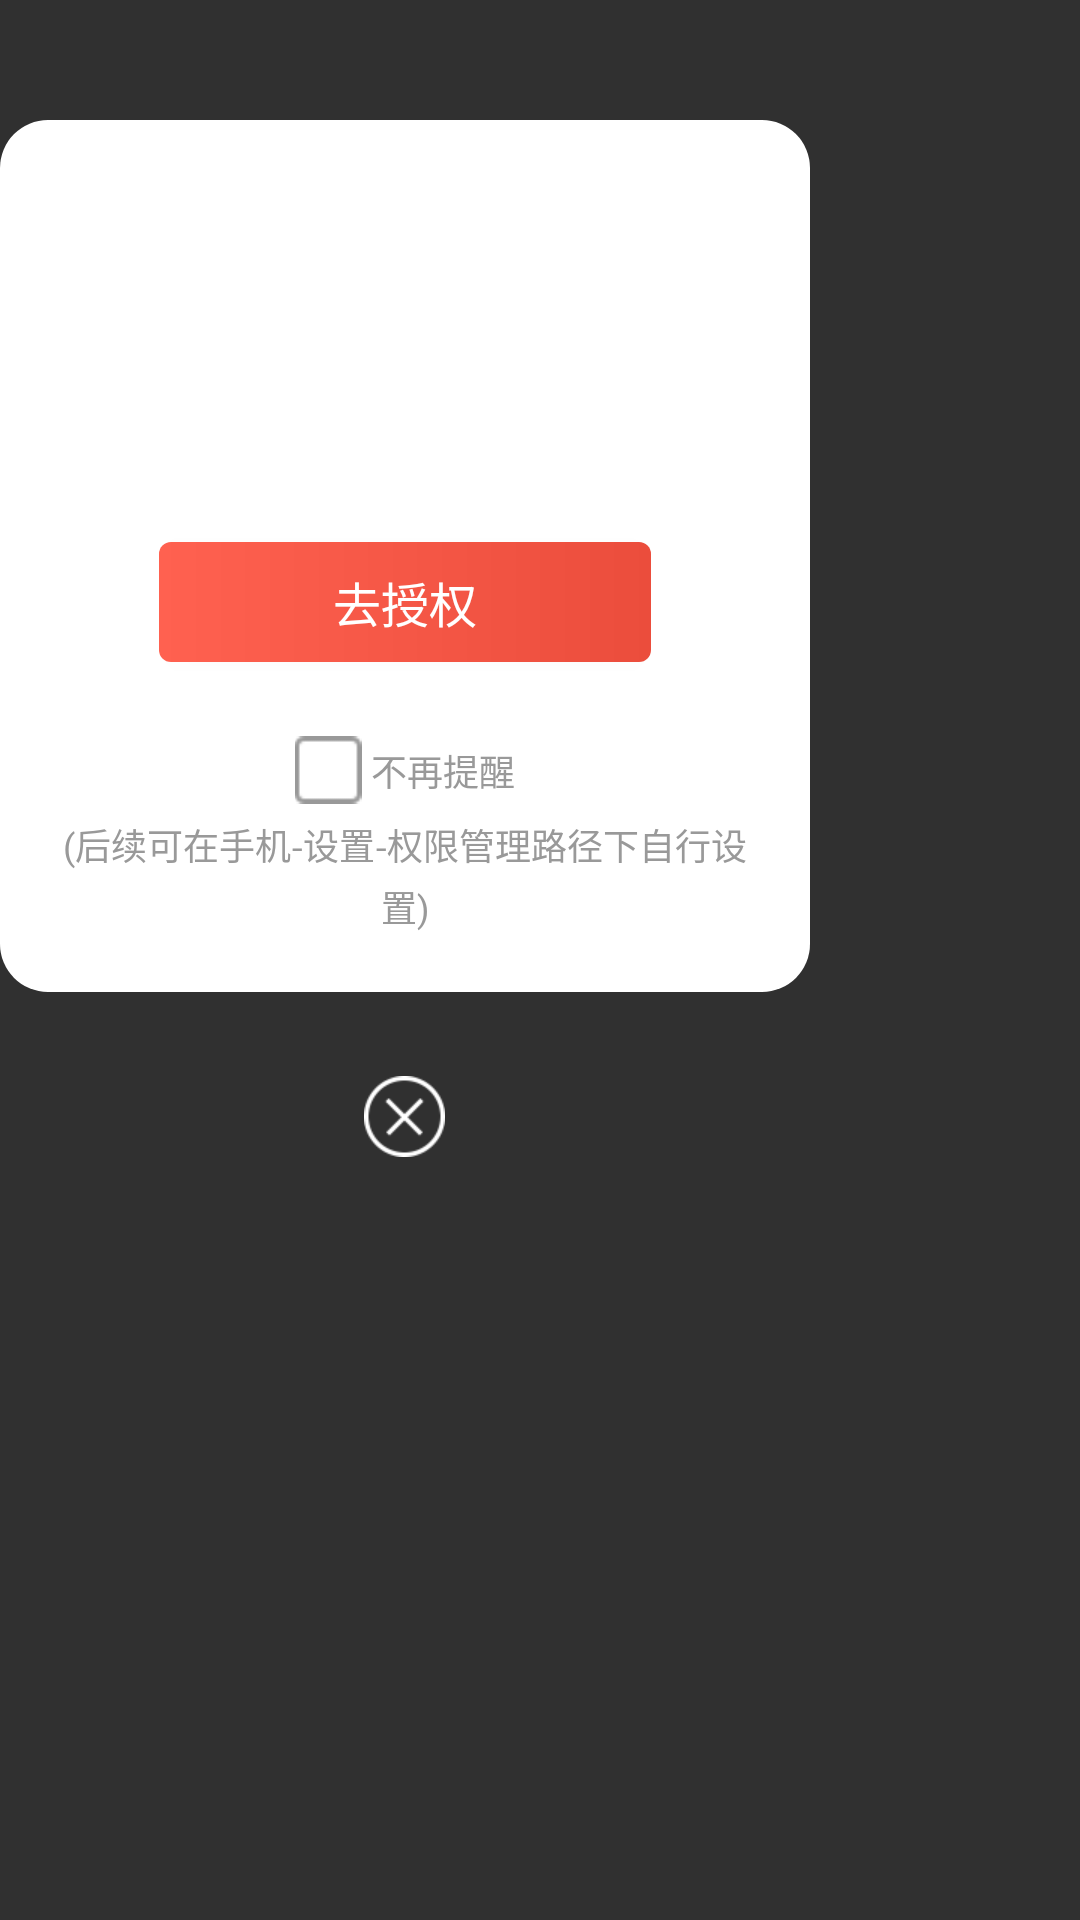

Where icons sit on this 1080w x 1920h app screen, as (x1,y1,x2,y2):
close: (364,1076,445,1157)
